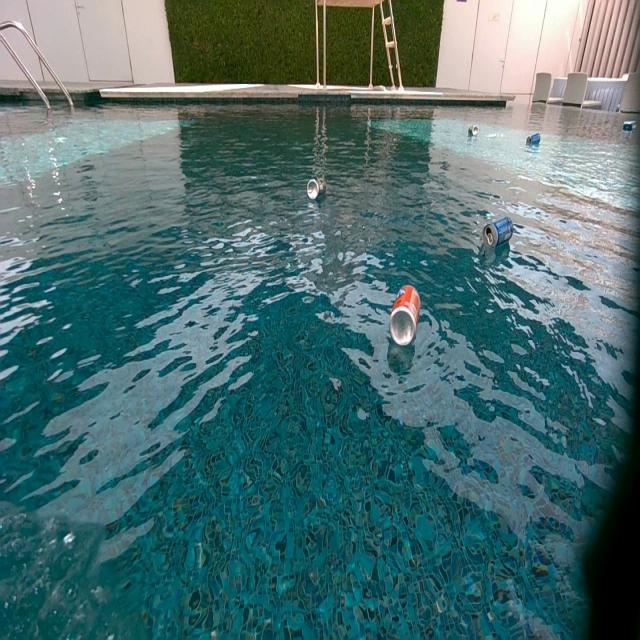Cans: (391, 284, 422, 348), (482, 217, 516, 251), (307, 179, 326, 199), (527, 133, 541, 146), (623, 119, 637, 130), (468, 126, 478, 139)
